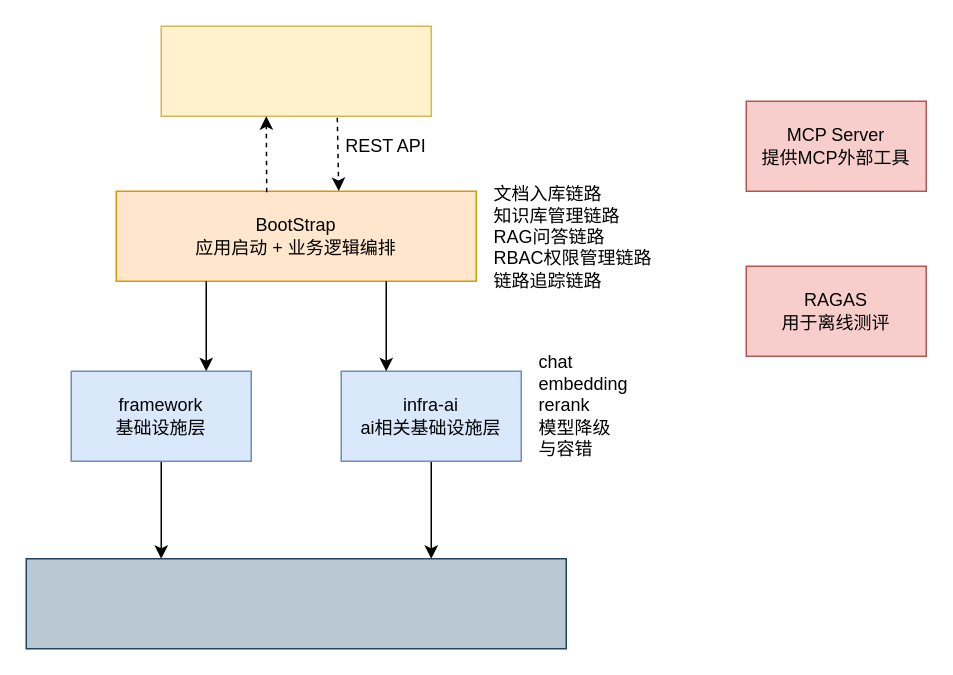
The diagram is 953 pixels wide and 675 high, and some of its shapes have lost their labels. Each missing label, with the centre of its shape:
"Frontend" belongs at point (295, 70).
"基础设施资源 Docker / Database / S3 / Opensearch" belongs at point (295, 603).
